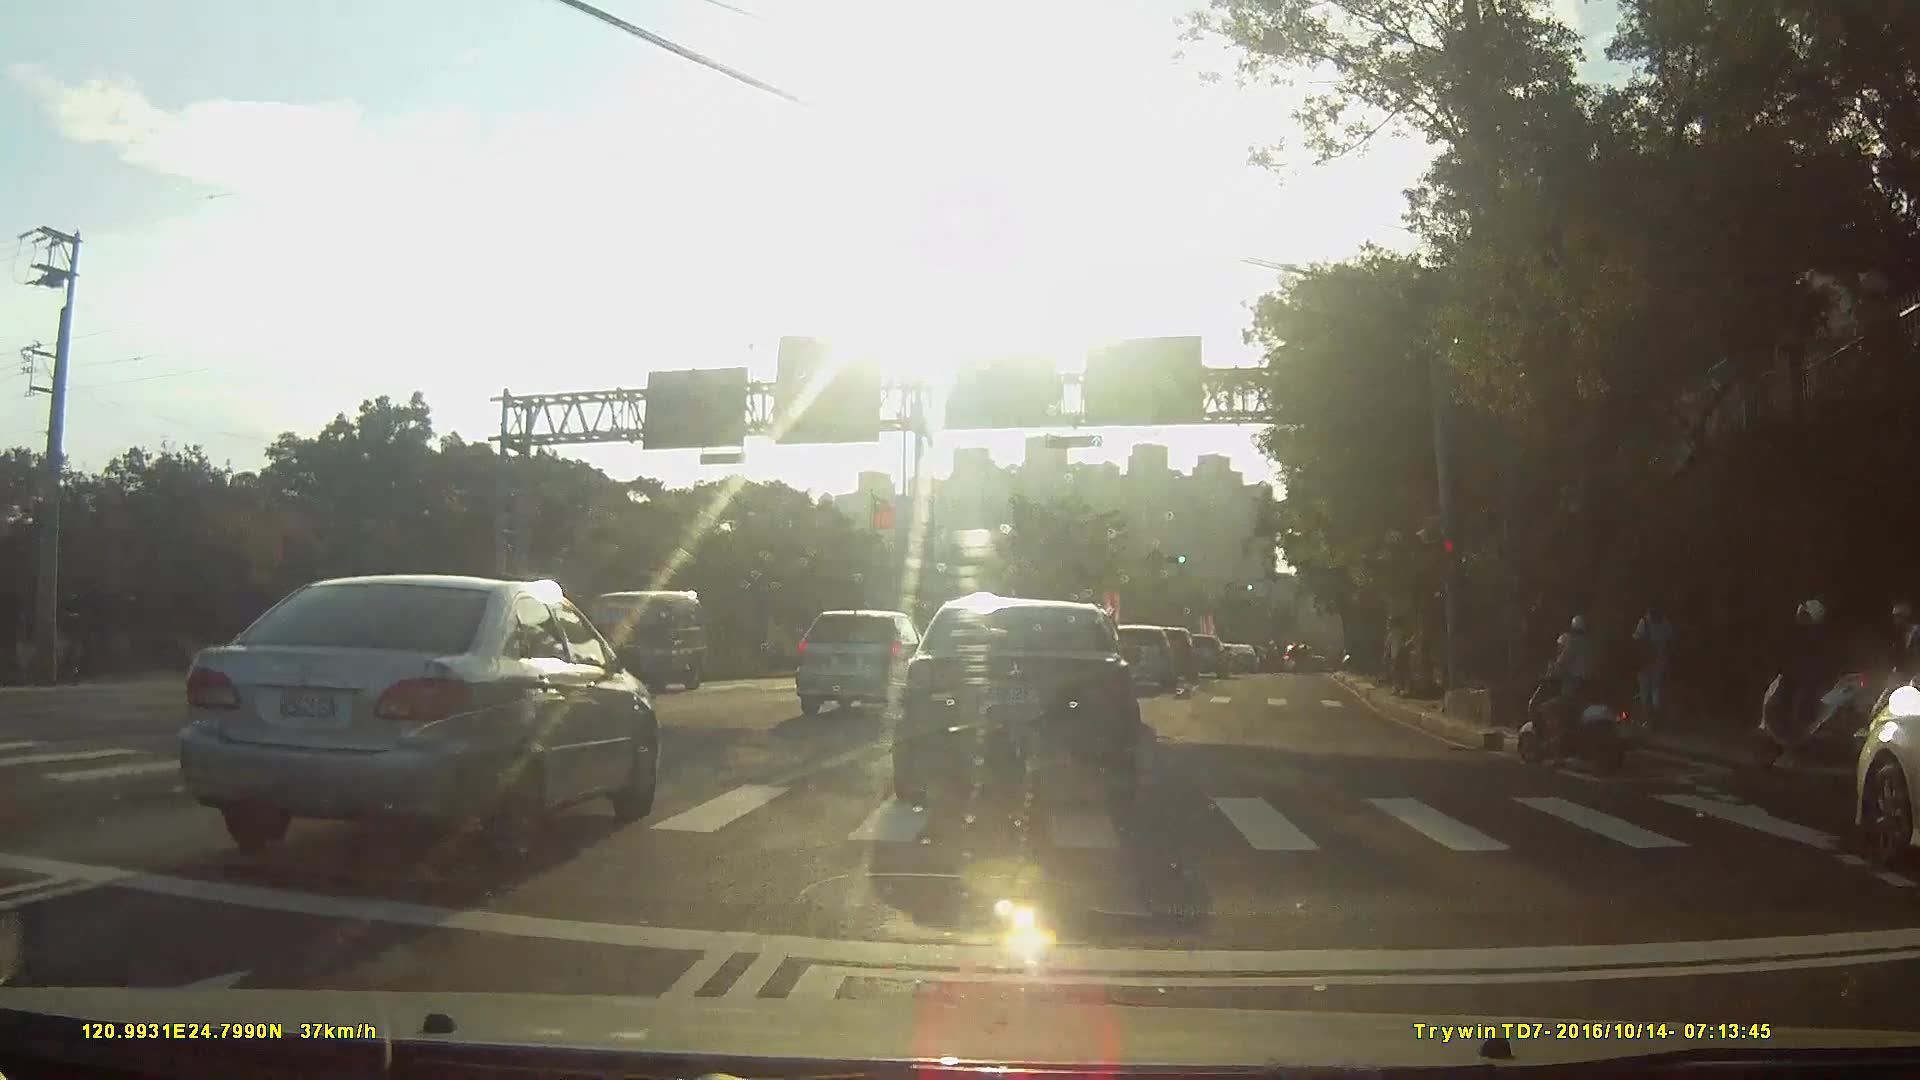pedestrian: (1623, 591, 1674, 731)
rider: (1763, 597, 1882, 770), (1522, 614, 1649, 775)
vehicle: (161, 572, 662, 870), (888, 594, 1138, 811), (1824, 651, 1920, 880), (559, 585, 713, 699), (794, 605, 939, 716), (1102, 625, 1176, 695), (1138, 627, 1200, 685), (1174, 633, 1224, 678), (1222, 645, 1259, 673)
